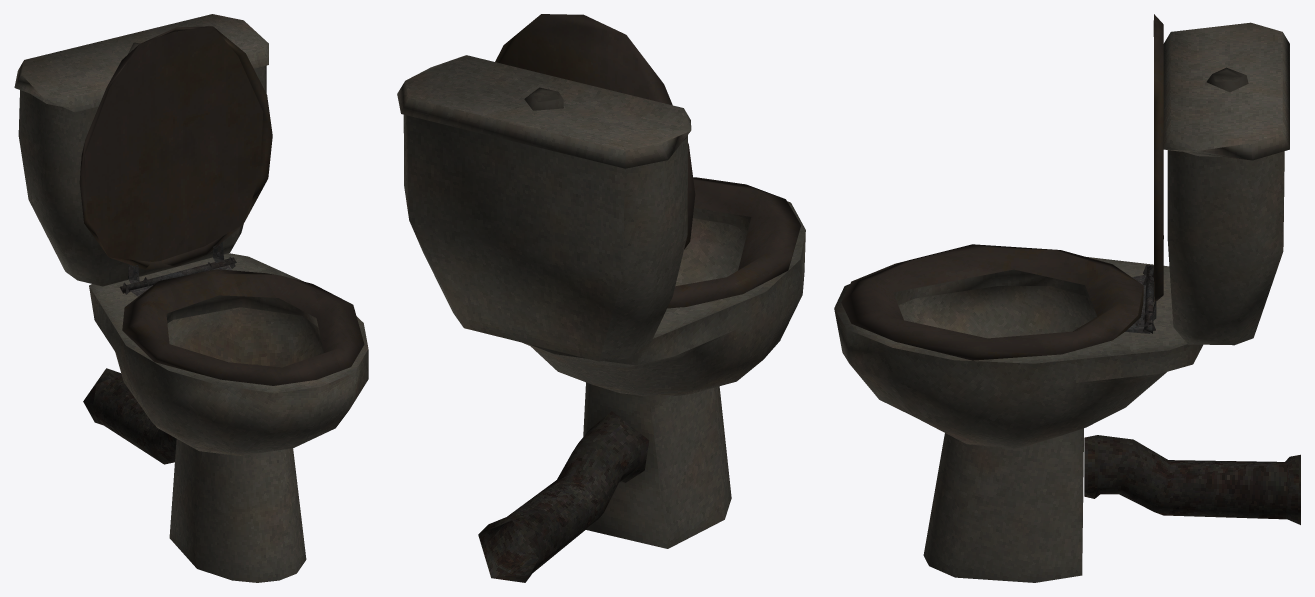
Rendered from toilet_mp_1_1-convcol.glb.
3 views of the same model, side by side, from view 1: azimuth 30°, elevation 25°; view 2: azimuth 150°, elevation 25°; view 3: azimuth 270°, elevation 25° (orthographic). The views are drawn at different scales.
Visible parts, largest first — view 1: toilet_mp_1_1-convcol, toilet_mp_1_1_lid; view 2: toilet_mp_1_1-convcol, toilet_mp_1_1_lid; view 3: toilet_mp_1_1-convcol, toilet_mp_1_1_lid.
Part boxes in pixels (left/top/right/bottom): toilet_mp_1_1-convcol: left=14, top=14, right=368, bottom=582; toilet_mp_1_1_lid: left=79, top=26, right=272, bottom=294; toilet_mp_1_1-convcol: left=397, top=55, right=805, bottom=582; toilet_mp_1_1_lid: left=495, top=14, right=695, bottom=249; toilet_mp_1_1-convcol: left=834, top=22, right=1300, bottom=582; toilet_mp_1_1_lid: left=1143, top=14, right=1163, bottom=333.
Bounding box in the file's own units: 0.572 × 1.11 × 0.8854.
3 materials, 3 textured.
